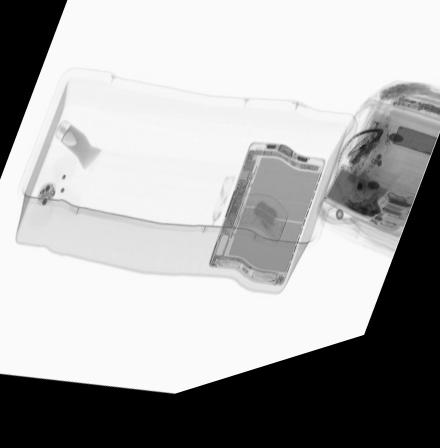Powerbank: (321, 184, 416, 264)
